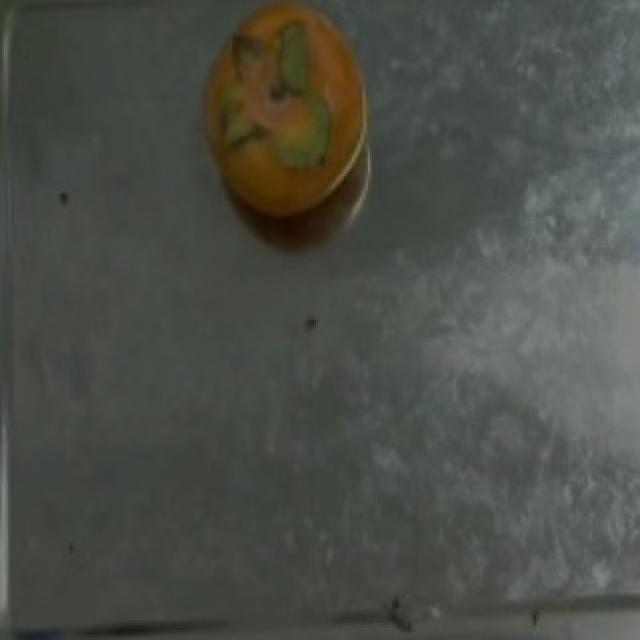Fruit: (172, 0, 396, 241)
